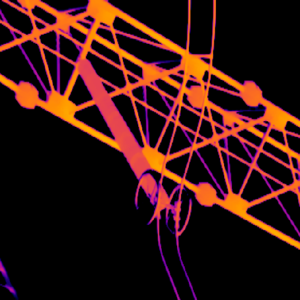insulator: (75, 56, 156, 194)
